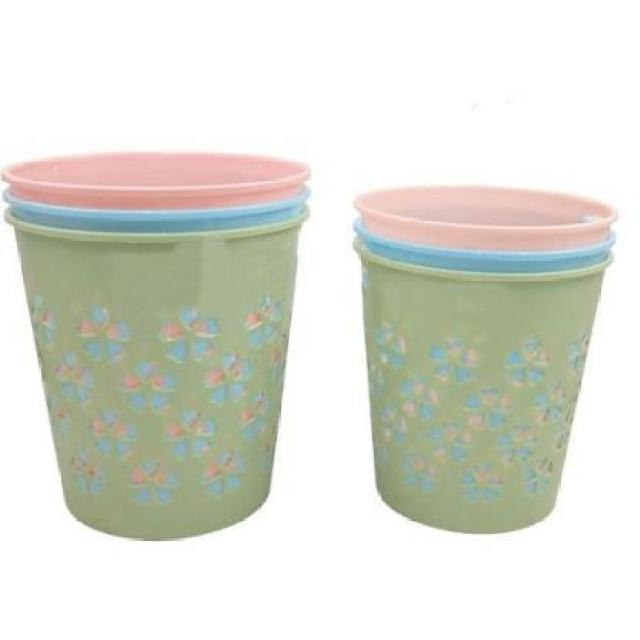dustbin: (2, 146, 316, 544), (349, 180, 622, 538)
